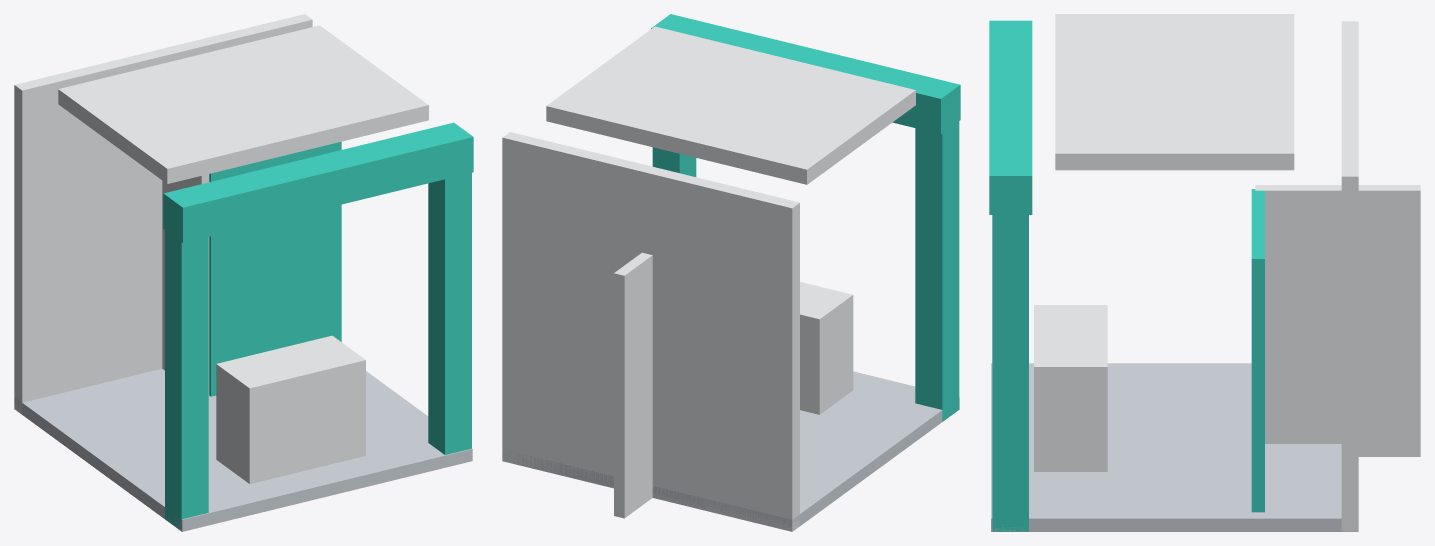
3 renders of one model, left to right at view 1: azimuth 30°, elevation 25°; view 2: azimuth 150°, elevation 25°; view 3: azimuth 270°, elevation 25°, orthographic. The views are drawn at different scales.
Parts seen in each view (by area): view 1: Exhibition Booth Concept; view 2: Exhibition Booth Concept; view 3: Exhibition Booth Concept.
Part boxes in pixels (x1,y1,x2,y2): Exhibition Booth Concept: (14, 14, 473, 531); Exhibition Booth Concept: (502, 14, 960, 531); Exhibition Booth Concept: (989, 14, 1420, 531).
Bounding box in the file's own units: 3 × 3.34 × 3.52.
